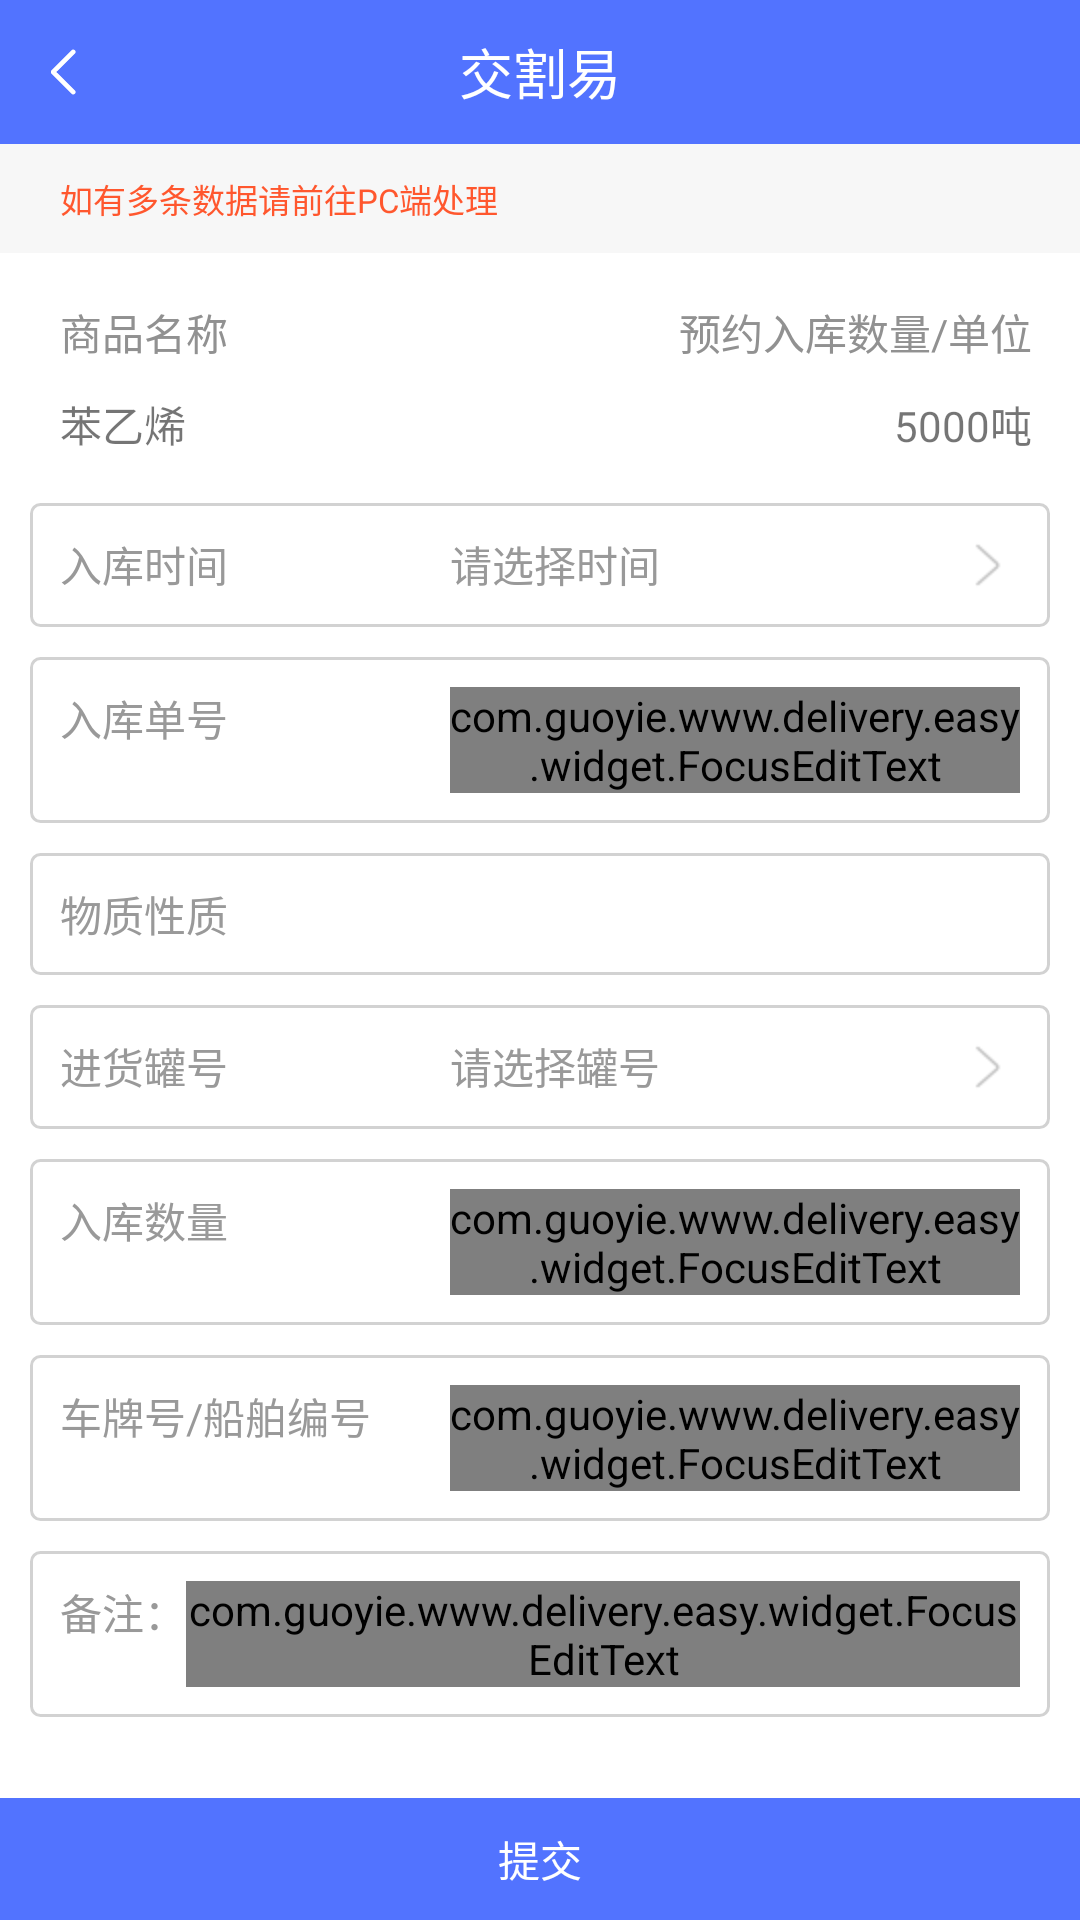

Icon click points for this 1080 x 1920 phone screenshot, format (x=x, y=y):
left arrow: (x=63, y=72)
right: (x=987, y=565), (x=987, y=1067)
